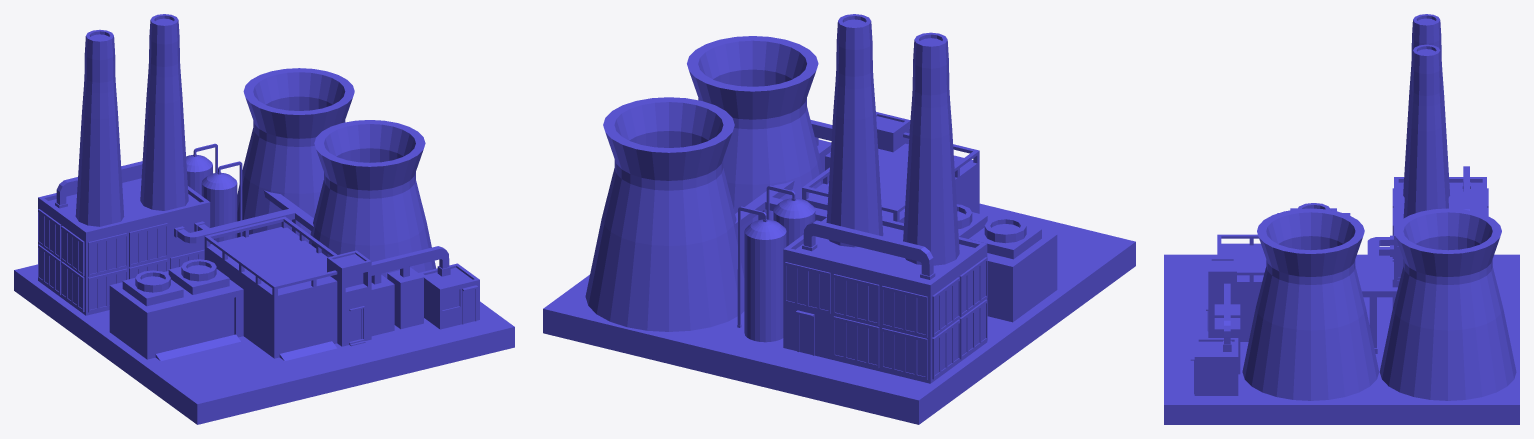
File: power_station_blueprint.fbx
The picture shows the model from 3 angles, left to right: view 1: azimuth 30°, elevation 25°; view 2: azimuth 150°, elevation 25°; view 3: azimuth 270°, elevation 25°; orthographic projection. The views are drawn at different scales.
Parts seen in each view (by area): view 1: Power Station.001; view 2: Power Station.001; view 3: Power Station.001.
Part boxes in pixels (box(x1,y1,x2,y2)): Power Station.001: box(14, 14, 514, 424); Power Station.001: box(543, 14, 1135, 424); Power Station.001: box(1164, 14, 1519, 424).
Size of the model in its own units: 294 by 249 by 294.
